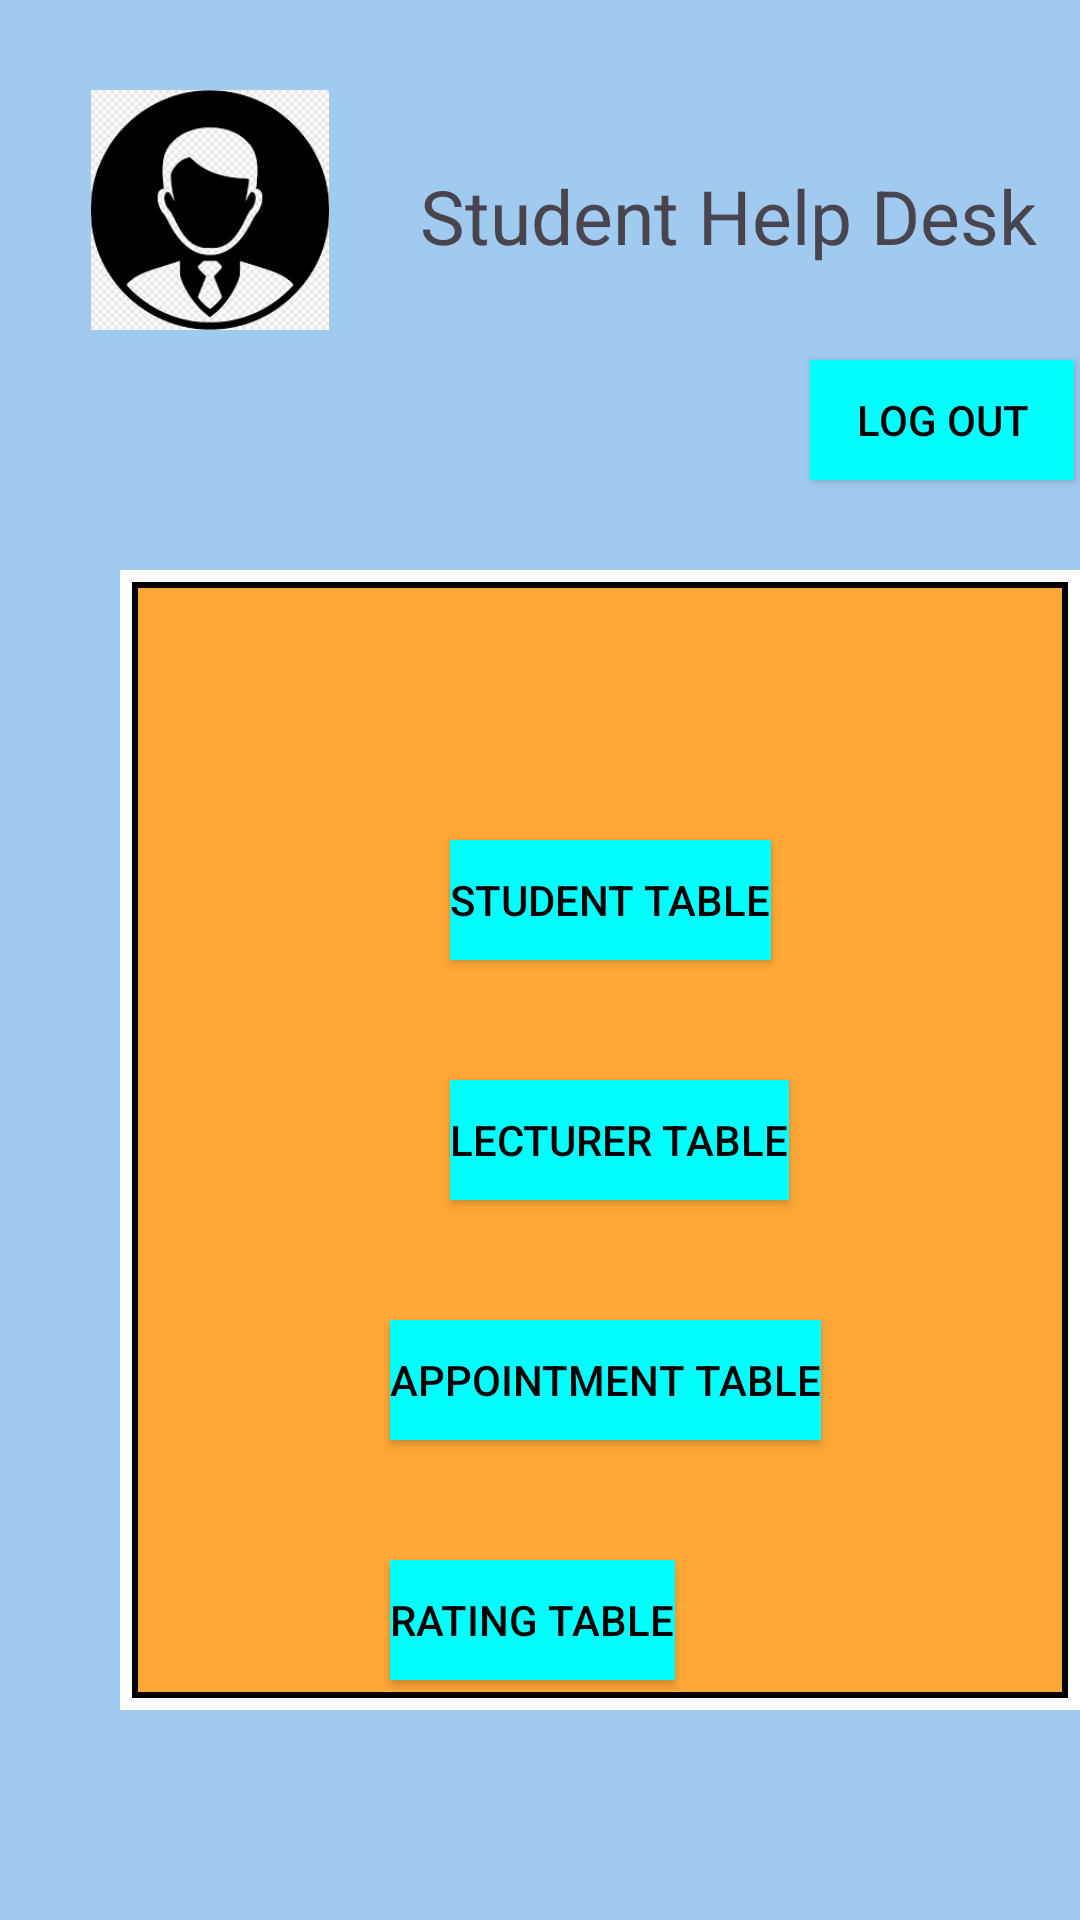

Icon click points for this 1080 x 1920 phone screenshot, format point (x, y):
profile: point (210, 210)
